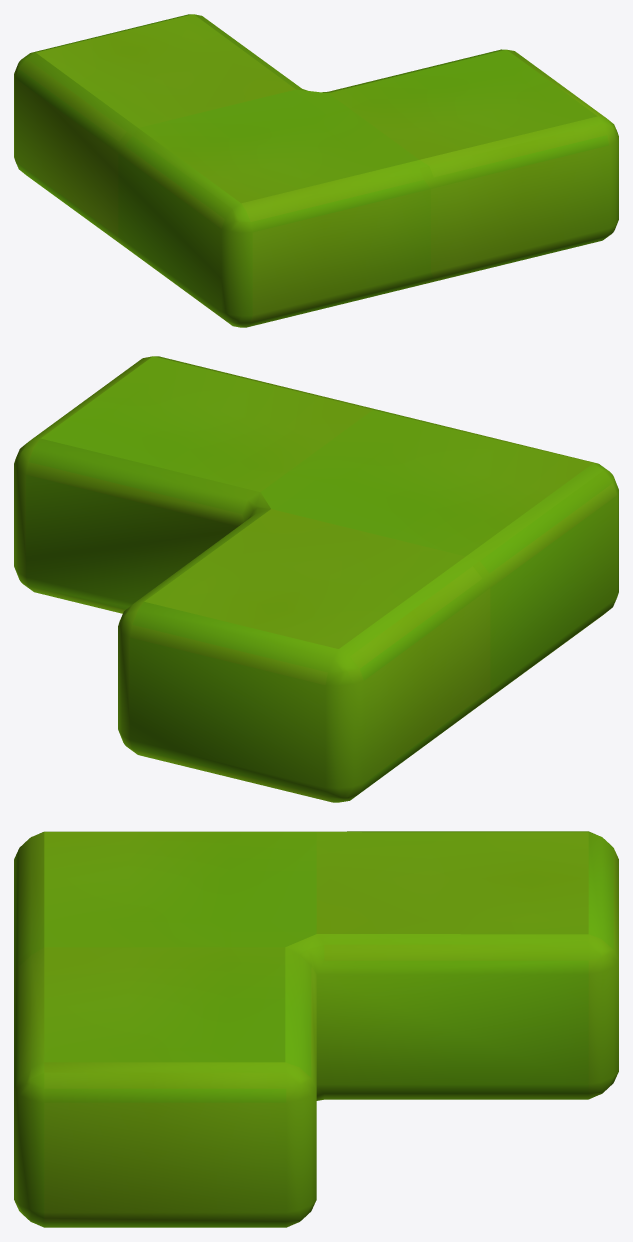
The model's file is LBlockGreen.fbx.
The picture shows the model from 3 angles, top to bottom: view 1: azimuth 30°, elevation 25°; view 2: azimuth 150°, elevation 25°; view 3: azimuth 270°, elevation 25°; orthographic projection. The views are drawn at different scales.
Visible parts, largest first — view 1: LBlock; view 2: LBlock; view 3: LBlock.
Part boxes in pixels (box(x1,y1,x2,y2)): LBlock: box(14, 14, 618, 327); LBlock: box(14, 356, 618, 802); LBlock: box(14, 831, 618, 1227).
Bounding box in the file's own units: 4 × 1.2 × 4.
